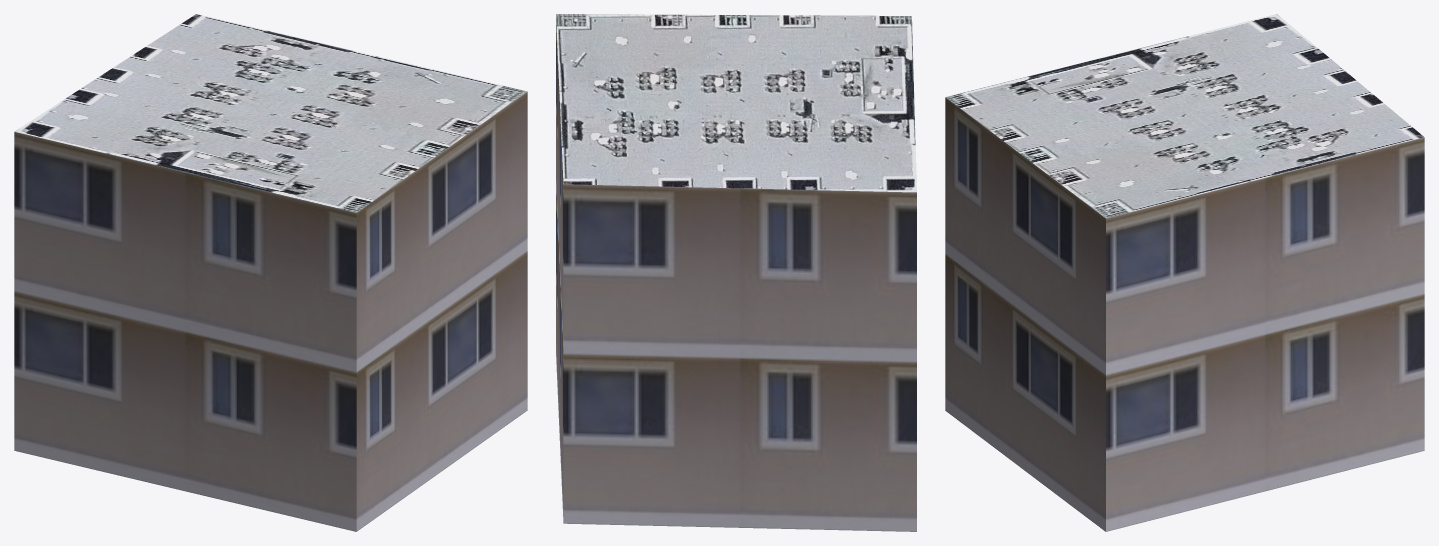
Rendered from ResTex__4776.fbx.
3 renders of one model, left to right at view 1: azimuth 30°, elevation 25°; view 2: azimuth 150°, elevation 25°; view 3: azimuth 270°, elevation 25°, orthographic. The views are drawn at different scales.
Visible parts, largest first — view 1: CityEngineMaterial_21_m, CityEngineMaterial_4_m; view 2: CityEngineMaterial_21_m, CityEngineMaterial_4_m; view 3: CityEngineMaterial_21_m, CityEngineMaterial_4_m.
Boxes of the visible parts, bbox=[...] form: CityEngineMaterial_21_m: bbox=[14, 91, 527, 531]; CityEngineMaterial_4_m: bbox=[14, 14, 527, 212]; CityEngineMaterial_21_m: bbox=[556, 18, 916, 531]; CityEngineMaterial_4_m: bbox=[556, 14, 916, 192]; CityEngineMaterial_21_m: bbox=[945, 97, 1424, 531]; CityEngineMaterial_4_m: bbox=[945, 14, 1423, 218].
Size of the model in its own units: 8.39 by 6 by 8.31.
Materials: 2 (2 with a texture image).
